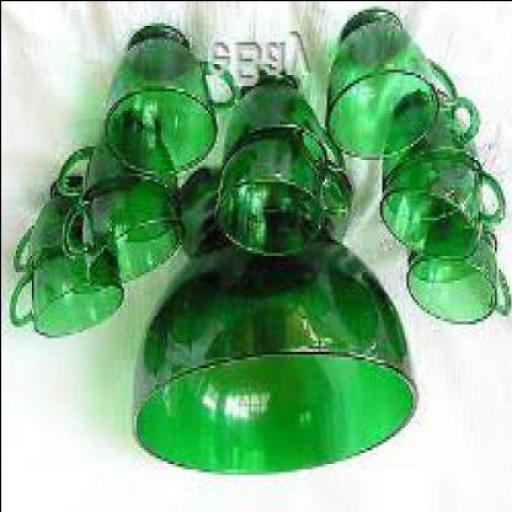glass: (126, 167, 414, 479), (98, 22, 236, 184), (324, 10, 454, 162), (210, 132, 348, 260), (59, 181, 182, 290), (377, 159, 502, 266), (222, 74, 348, 178), (404, 224, 510, 329), (6, 248, 120, 340), (53, 131, 176, 211), (379, 90, 478, 189), (8, 184, 106, 280)
